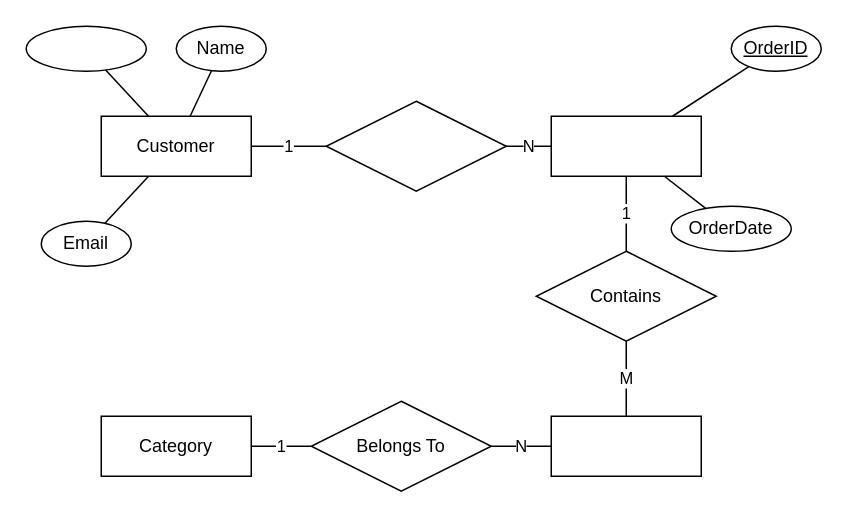
The diagram is 848 pixels wide and 518 high, and some of its shapes have lost their labels. Here are the shapes that lost their labels. From the top down, the centre of each, then its label:
the point at 85,48: CustomerID
the point at 415,145: Places
the point at 625,145: Order
the point at 625,445: Product
